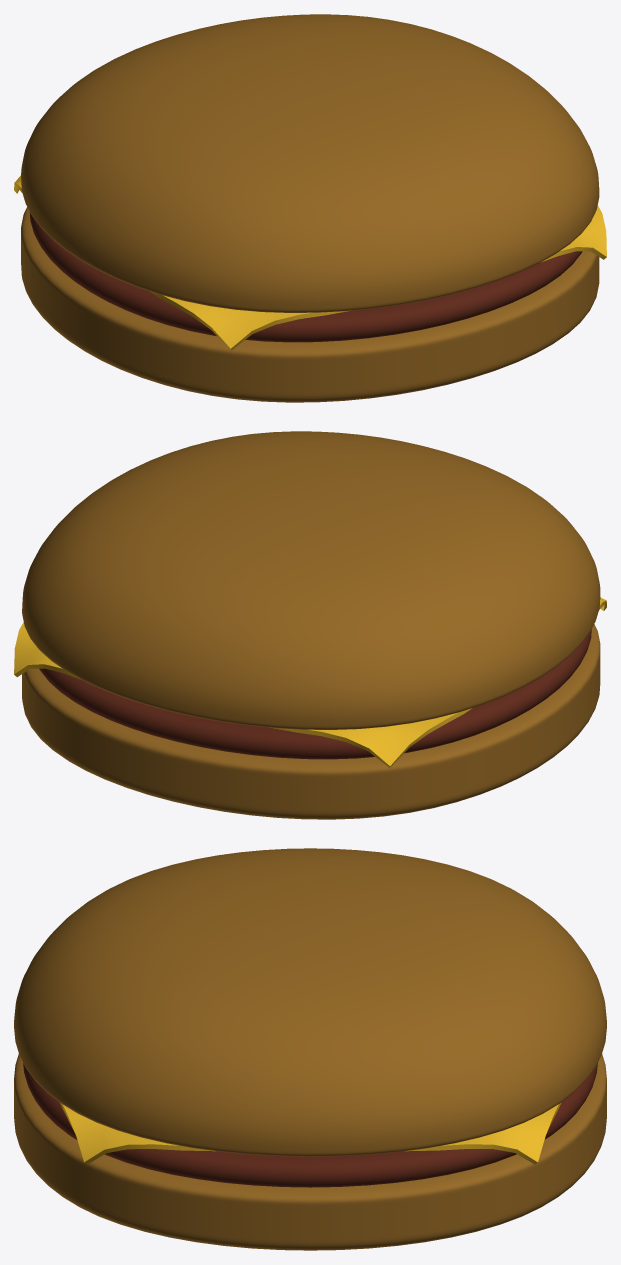
Rendered from hamburger-draco.glb.
3 renders of one model, top to bottom at view 1: azimuth 30°, elevation 25°; view 2: azimuth 150°, elevation 25°; view 3: azimuth 270°, elevation 25°, orthographic. The views are drawn at different scales.
Visible parts, largest first — view 1: TopBun, BottomBun, Meat, Cheese; view 2: TopBun, BottomBun, Meat, Cheese; view 3: TopBun, BottomBun, Meat, Cheese.
Boxes of the visible parts, x1,y1,x2,y2 form: TopBun: [21, 14, 599, 312]; BottomBun: [21, 207, 599, 402]; Meat: [29, 212, 582, 342]; Cheese: [14, 175, 606, 350]; TopBun: [22, 431, 600, 729]; BottomBun: [22, 624, 600, 819]; Meat: [39, 629, 591, 759]; Cheese: [14, 597, 606, 767]; TopBun: [14, 848, 606, 1156]; BottomBun: [14, 1054, 606, 1250]; Meat: [23, 1063, 597, 1187]; Cheese: [60, 1102, 561, 1164].
Size of the model in its own units: 9.17 by 3.91 by 9.17.
